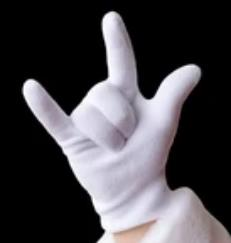back: (17, 8, 206, 170)
